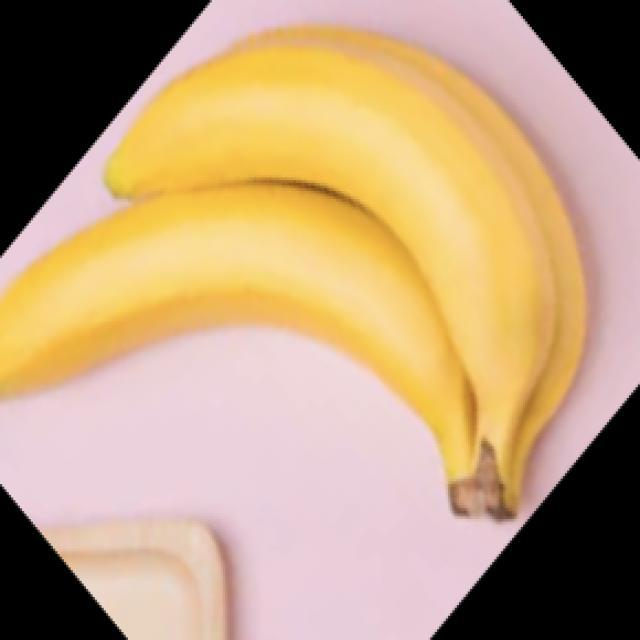Banana: (0, 22, 588, 520)
